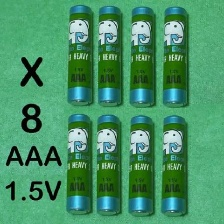battery: (126, 112, 158, 219), (160, 4, 192, 109), (63, 111, 94, 219), (93, 111, 123, 219), (159, 113, 189, 219), (127, 4, 157, 109), (66, 3, 94, 105), (97, 4, 123, 109)
